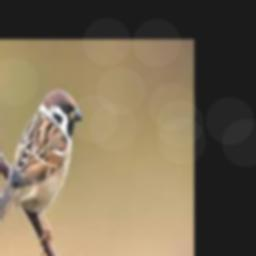Sparrow: (0, 89, 82, 249)
